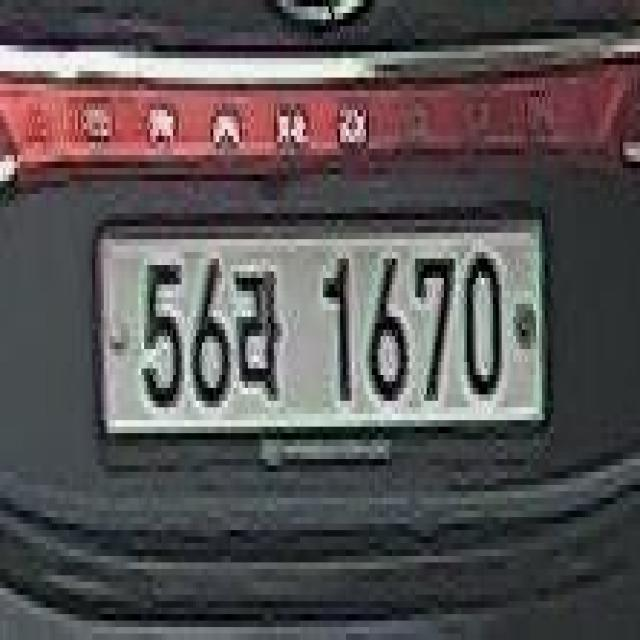illegal_plate: (91, 206, 552, 484)
